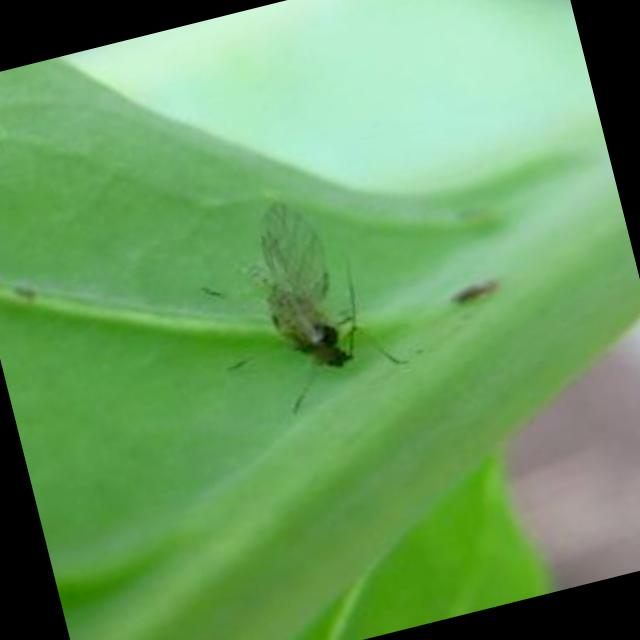Green peach aphid: (170, 150, 453, 463)
